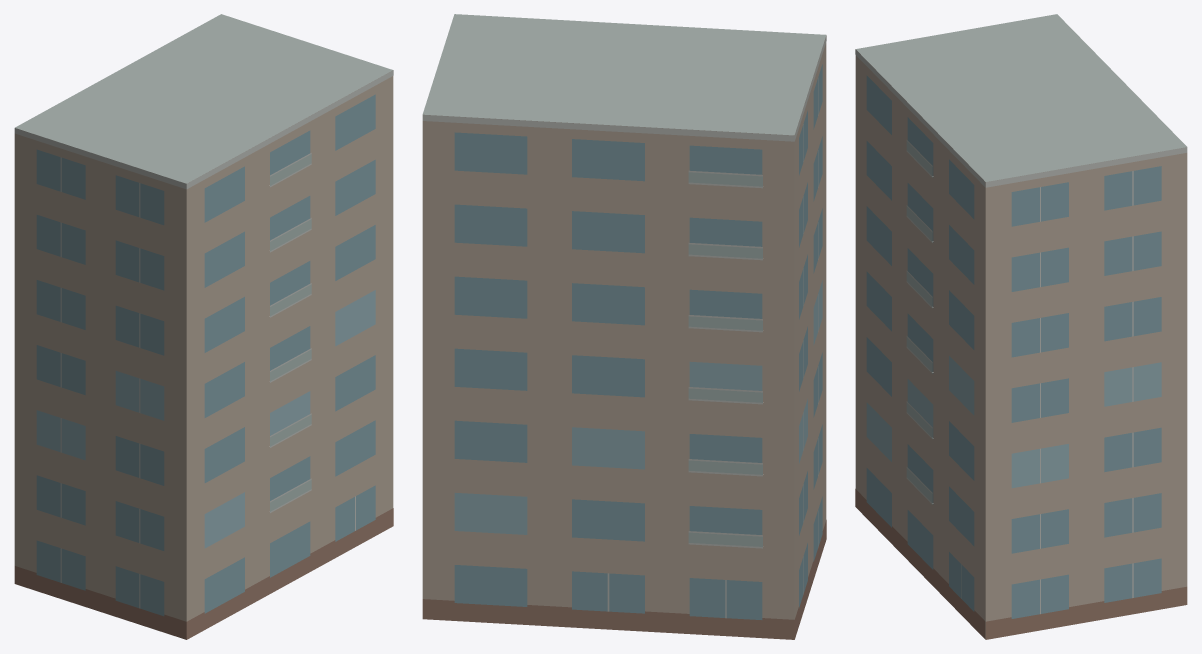
The model's file is survey-upis-32933945.glb.
The picture shows the model from 3 angles, left to right: view 1: azimuth 30°, elevation 25°; view 2: azimuth 150°, elevation 25°; view 3: azimuth 270°, elevation 25°; orthographic projection. The views are drawn at different scales.
Parts seen in each view (by area): view 1: survey-upis-32933945.tmp; view 2: survey-upis-32933945.tmp; view 3: survey-upis-32933945.tmp.
Part boxes in pixels (left/top/right/bottom): survey-upis-32933945.tmp: left=14, top=14, right=393, bottom=639; survey-upis-32933945.tmp: left=422, top=14, right=826, bottom=639; survey-upis-32933945.tmp: left=855, top=14, right=1187, bottom=639.
Bounding box in the file's own units: 15.52 × 19.7 × 12.95.
